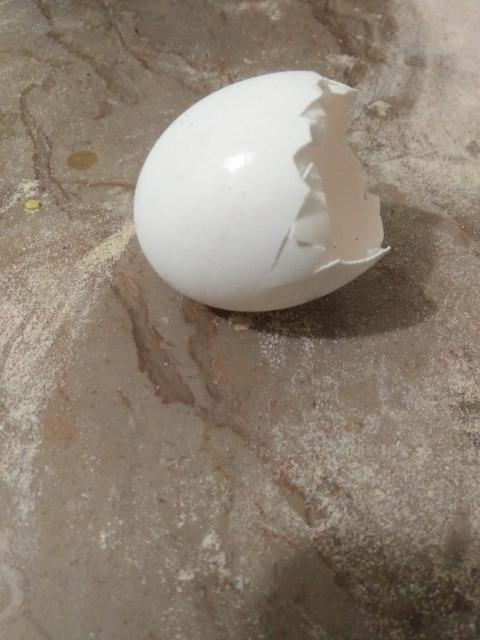Roto: (132, 68, 392, 313)
